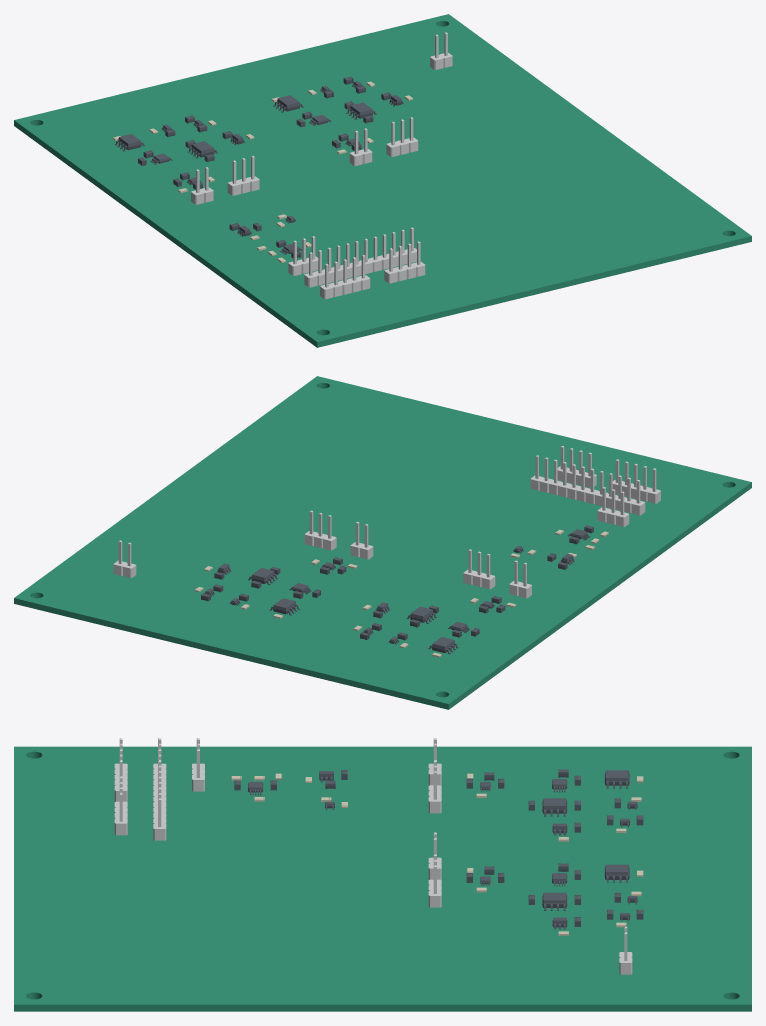
File: monitoring-cell.glb
The picture shows the model from 3 angles, top to bottom: view 1: azimuth 30°, elevation 25°; view 2: azimuth 150°, elevation 25°; view 3: azimuth 270°, elevation 25°; orthographic projection. The views are drawn at different scales.
Visible parts, largest first — view 1: PCB, J10002, J10003, J10004, J10201, J10101, J10001; view 2: PCB, J10002, J10003, J10101, J10201, J10001, J10004; view 3: PCB, J10002, J10003, J10004, J10101, J10201, J10001.
Boxes of the visible parts, x1=… form: PCB: x1=14, y1=14, x2=751, y2=347; J10002: x1=304, y1=227, x2=416, y2=287; J10003: x1=320, y1=255, x2=370, y2=299; J10004: x1=384, y1=241, x2=425, y2=283; J10201: x1=386, y1=117, x2=418, y2=156; J10101: x1=227, y1=156, x2=259, y2=195; J10001: x1=288, y1=236, x2=318, y2=275; PCB: x1=14, y1=376, x2=751, y2=709; J10002: x1=530, y1=455, x2=645, y2=515; J10003: x1=612, y1=459, x2=660, y2=503; J10101: x1=463, y1=549, x2=495, y2=589; J10201: x1=304, y1=510, x2=336, y2=550; J10001: x1=597, y1=487, x2=629, y2=526; J10004: x1=557, y1=446, x2=596, y2=487; PCB: x1=14, y1=746, x2=751, y2=1011; J10002: x1=153, y1=738, x2=166, y2=840; J10003: x1=114, y1=738, x2=127, y2=801; J10004: x1=114, y1=776, x2=127, y2=835; J10101: x1=428, y1=760, x2=441, y2=813; J10201: x1=428, y1=854, x2=441, y2=907; J10001: x1=192, y1=738, x2=204, y2=791.
Size of the model in its own units: 0.12 by 0.0115 by 0.145.
